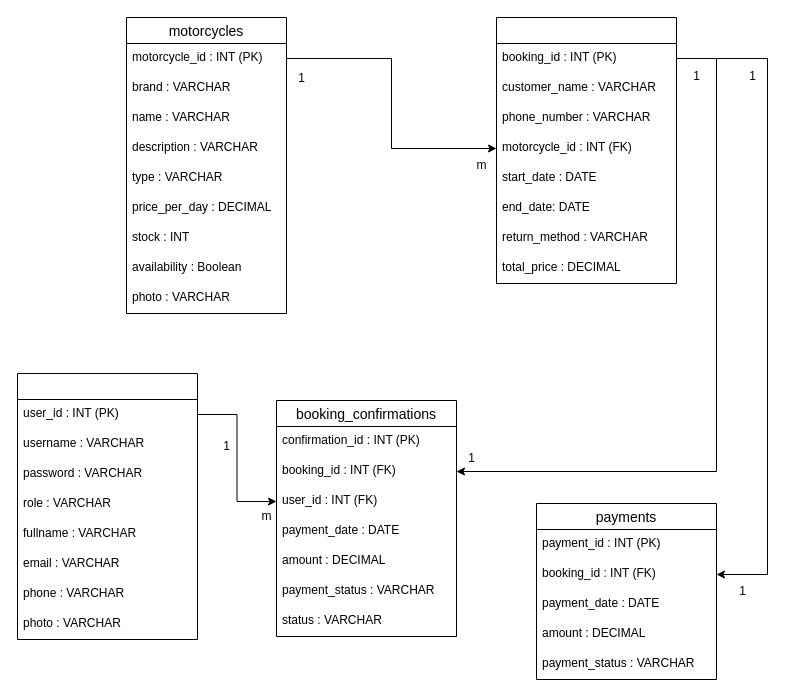
This 793x700 diagram has some shape labels left out. The shapes that lost their labels are listed below. From the top down, each one's box as (x1, y1, x2, y2) in pixels, then its label:
(496, 16, 676, 284): bookings
(16, 372, 198, 640): users
